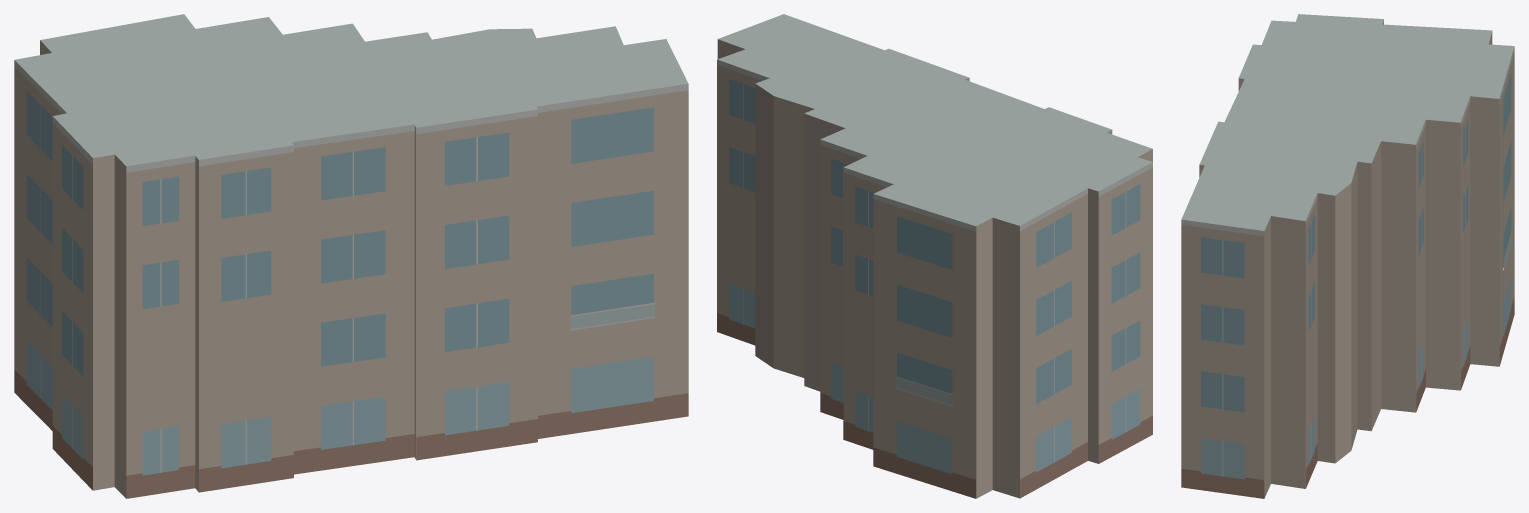
File: survey-upis-32993855.glb
The picture shows the model from 3 angles, left to right: view 1: azimuth 30°, elevation 25°; view 2: azimuth 150°, elevation 25°; view 3: azimuth 270°, elevation 25°; orthographic projection. The views are drawn at different scales.
Parts seen in each view (by area): view 1: survey-upis-32993855.tmp; view 2: survey-upis-32993855.tmp; view 3: survey-upis-32993855.tmp.
Boxes of the visible parts, left/top/right/bottom form: survey-upis-32993855.tmp: left=14, top=14, right=688, bottom=498; survey-upis-32993855.tmp: left=717, top=14, right=1152, bottom=498; survey-upis-32993855.tmp: left=1181, top=14, right=1514, bottom=498.
Size of the model in its own units: 21.91 by 12.6 by 14.22.
